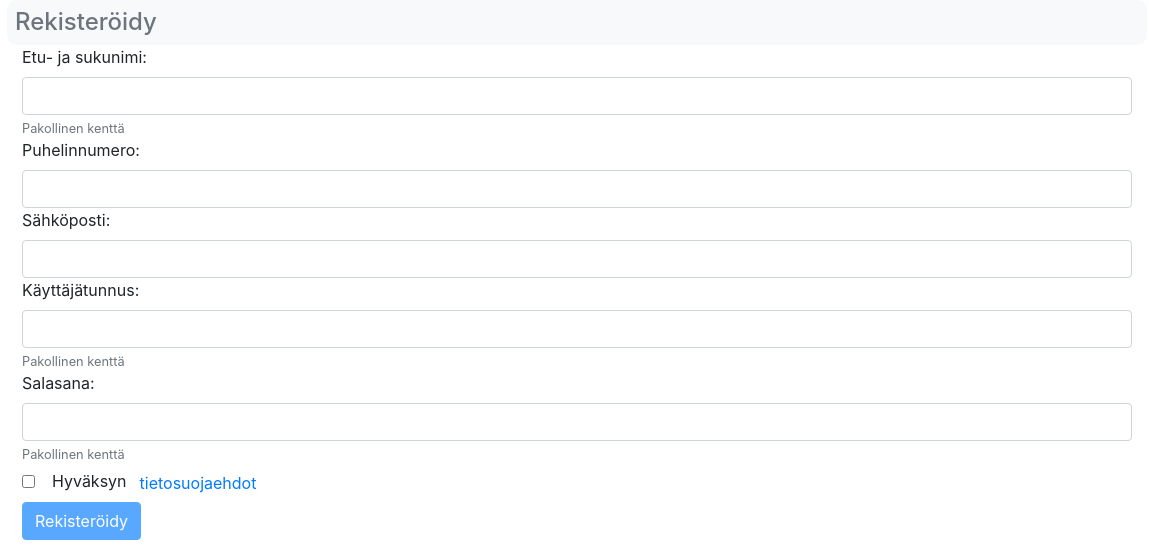
Test: Register page › terms have to be accepted to submit the form
This screenshot has width=1149, height=557.
expect the button with test id "submit" is disabled: met, box x1=22 y1=502 x2=141 y2=540
Step 1. Click the checkbox → (28, 481), box x1=22 y1=475 x2=35 y2=488
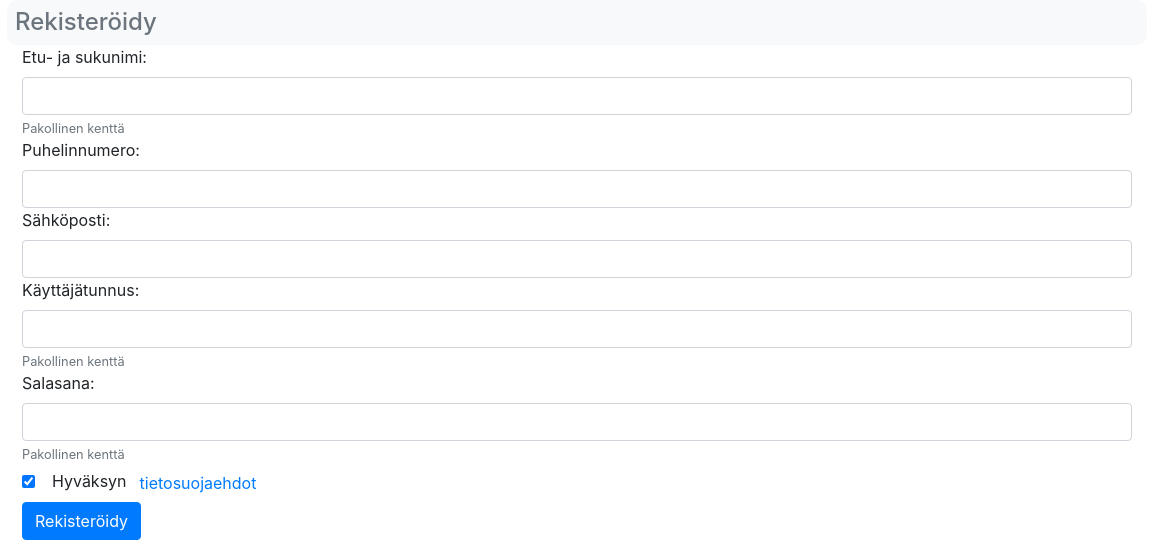
expect the button with test id "submit" is enabled: met, box x1=22 y1=502 x2=141 y2=540
